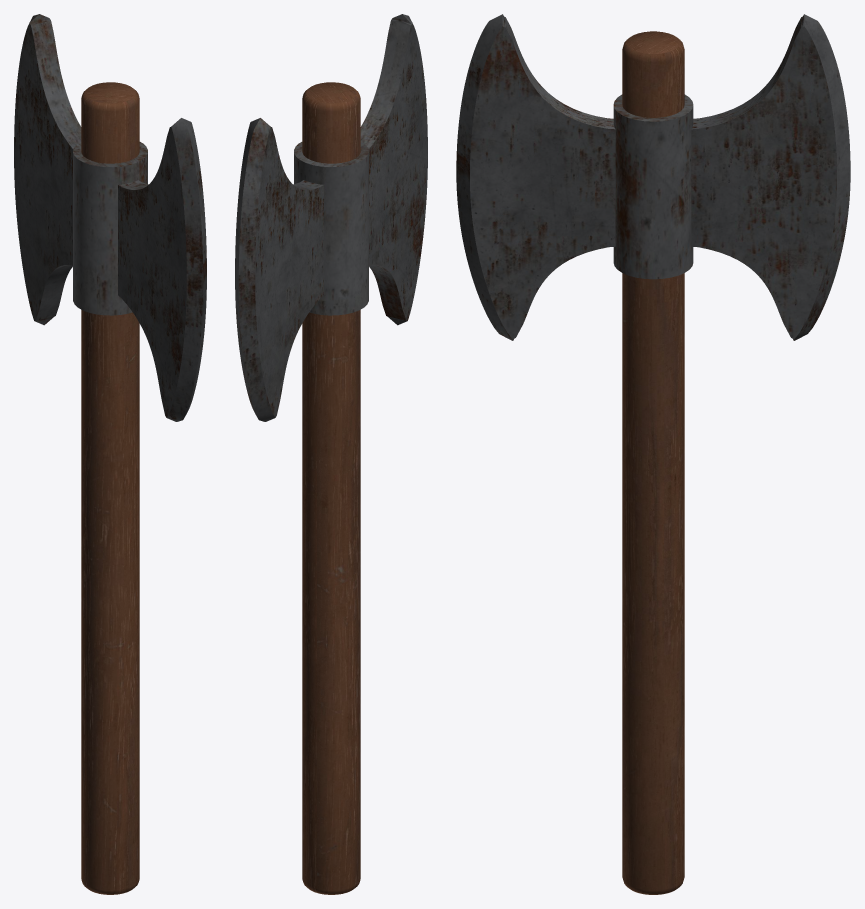
Rendered from E03_Machado.fbx.
The picture shows the model from 3 angles, left to right: view 1: azimuth 30°, elevation 25°; view 2: azimuth 150°, elevation 25°; view 3: azimuth 270°, elevation 25°; orthographic projection. The views are drawn at different scales.
Parts seen in each view (by area): view 1: Axe; view 2: Axe; view 3: Axe.
Part boxes in pixels (left/top/right/bottom): Axe: left=14, top=14, right=206, bottom=894; Axe: left=235, top=14, right=427, bottom=894; Axe: left=456, top=14, right=850, bottom=894.
Size of the model in its own units: 22.19 by 267 by 110.
Materials: 2 (2 with a texture image).
